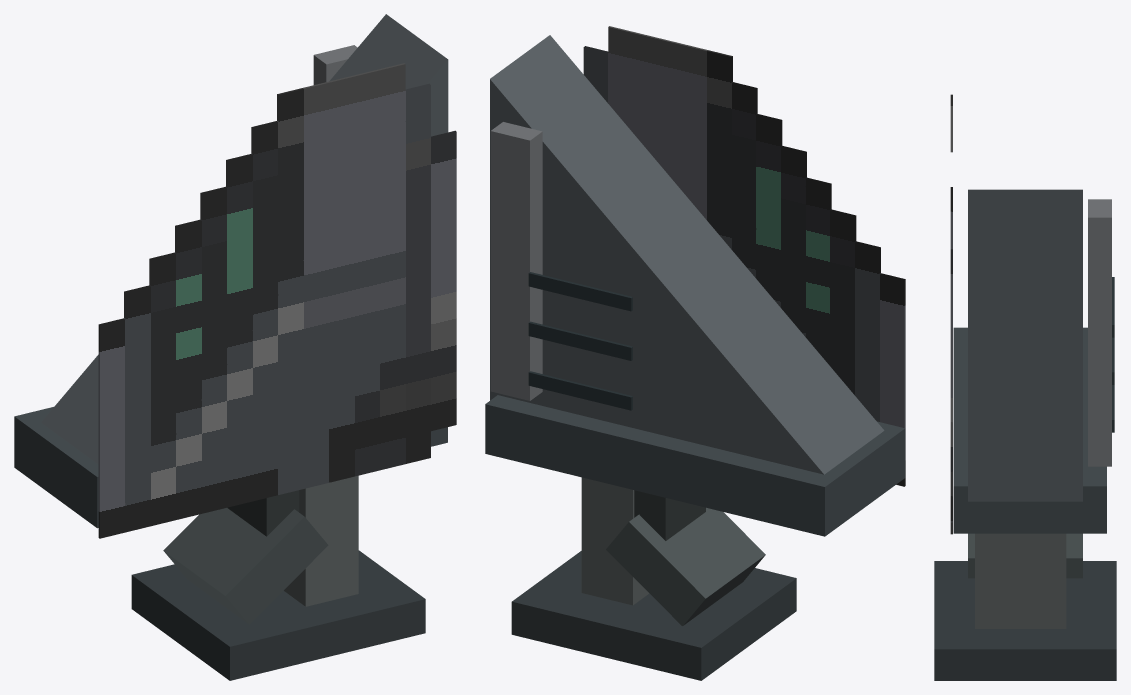
Rendered from CMU3DBodyScannerConsoleCloudWest.glb.
3 views of the same model, side by side, from view 1: azimuth 30°, elevation 25°; view 2: azimuth 150°, elevation 25°; view 3: azimuth 270°, elevation 25° (orthographic). The views are drawn at different scales.
Parts seen in each view (by area): view 1: original diagonal display and bezel, asymmetric floor foot, pedestal angled brace, sloping solid monitor enclosure, narrow pedestal stem, cast monitor lower tray, pedestal dark rear web, top rear spine; view 2: sloping solid monitor enclosure, original diagonal display and bezel, cast monitor lower tray, asymmetric floor foot, top rear spine, pedestal angled brace, narrow pedestal stem, rear heat slit (×3), pedestal dark rear web; view 3: sloping solid monitor enclosure, asymmetric floor foot, cast monitor lower tray, narrow pedestal stem, top rear spine, original diagonal display and bezel, pedestal angled brace.
Part boxes in pixels (x1,y1,x2,y2): original diagonal display and bezel: [98, 63, 456, 538]; asymmetric floor foot: [131, 550, 425, 680]; pedestal angled brace: [163, 508, 328, 624]; sloping solid monitor enclosure: [41, 14, 448, 464]; narrow pedestal stem: [284, 475, 358, 606]; cast monitor lower tray: [14, 407, 447, 528]; pedestal dark rear web: [227, 490, 299, 536]; top rear spine: [313, 45, 357, 84]; sloping solid monitor enclosure: [490, 35, 884, 474]; original diagonal display and bezel: [583, 26, 905, 486]; cast monitor lower tray: [485, 395, 905, 536]; asymmetric floor foot: [511, 551, 796, 680]; top rear spine: [490, 122, 542, 400]; pedestal angled brace: [606, 507, 765, 625]; narrow pedestal stem: [581, 477, 649, 605]; rear heat slit (×3): [528, 272, 632, 410]; pedestal dark rear web: [634, 490, 705, 540]; sloping solid monitor enclosure: [968, 189, 1082, 501]; asymmetric floor foot: [934, 561, 1116, 680]; cast monitor lower tray: [953, 327, 1106, 533]; narrow pedestal stem: [975, 533, 1066, 628]; top rear spine: [1088, 199, 1111, 466]; original diagonal display and bezel: [950, 94, 952, 534]; pedestal angled brace: [968, 533, 1082, 578].
Size of what is drawn, in the model's own units: 0.44 by 0.6625 by 0.209.
Materials: 9 (1 with a texture image).
